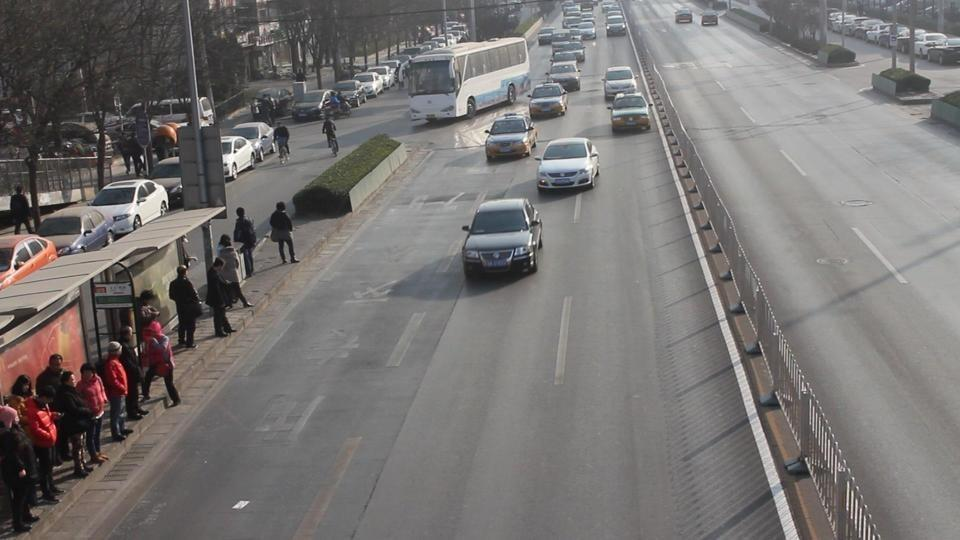car: (462, 197, 543, 277), (87, 177, 168, 239), (168, 132, 255, 182), (37, 205, 112, 256), (536, 137, 601, 191), (0, 233, 60, 290), (484, 113, 540, 162), (290, 88, 350, 123), (148, 157, 185, 210), (535, 67, 577, 112), (609, 92, 653, 134), (226, 122, 274, 160), (220, 136, 256, 179), (528, 82, 569, 119), (253, 86, 294, 122), (603, 66, 636, 106), (338, 77, 383, 102), (548, 61, 582, 93), (925, 38, 960, 65), (550, 42, 585, 67), (915, 32, 950, 57), (354, 72, 384, 97), (605, 12, 627, 36), (674, 10, 692, 24)
